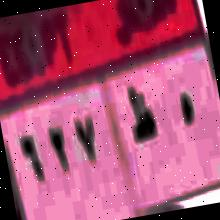2: (47, 120, 72, 174)
6: (19, 131, 49, 192)
7: (68, 108, 105, 174)
Thaa: (123, 81, 162, 148)
haa: (175, 87, 199, 138)
